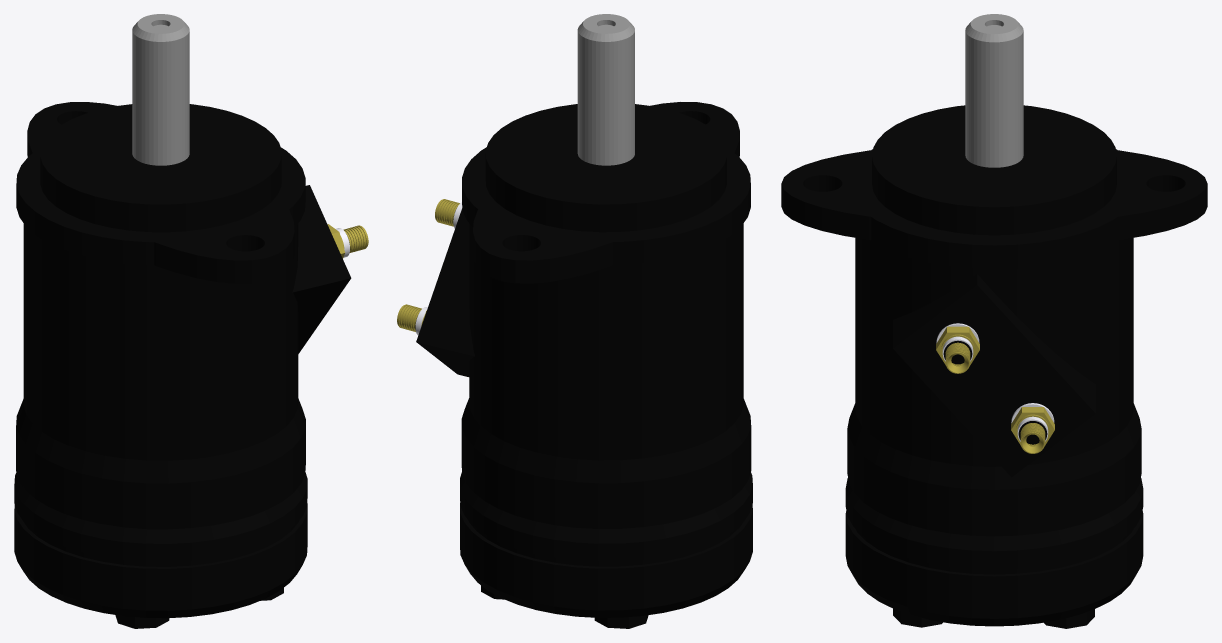
3 renders of one model, left to right at view 1: azimuth 30°, elevation 25°; view 2: azimuth 150°, elevation 25°; view 3: azimuth 270°, elevation 25°, orthographic.
Parts seen in each view (by area): view 1: Body Moter, Grip, rode, Hendal, board, Nut Up, Bolt.003; view 2: Body Moter, Grip, rode, Hendal, board, Nut Down, Nut Up, Bolt.002; view 3: Body Moter, board, Grip, Hendal, rode, Nut Down, Nut Up.
Boxes of the visible parts, bbox=[...] form: Body Moter: bbox=[14, 104, 307, 618]; Grip: bbox=[16, 147, 305, 265]; rode: bbox=[132, 14, 189, 165]; Hendal: bbox=[27, 102, 294, 283]; board: bbox=[292, 185, 351, 353]; Nut Up: bbox=[327, 224, 368, 258]; Bolt.003: bbox=[115, 615, 169, 628]; Body Moter: bbox=[460, 104, 752, 617]; Grip: bbox=[462, 147, 750, 265]; rode: bbox=[577, 14, 634, 165]; Hendal: bbox=[472, 102, 739, 283]; board: bbox=[416, 208, 474, 376]; Nut Down: bbox=[397, 304, 427, 335]; Nut Up: bbox=[435, 199, 462, 228]; Bolt.002: bbox=[594, 615, 648, 628]; Body Moter: bbox=[845, 105, 1143, 626]; board: bbox=[893, 274, 1095, 477]; Grip: bbox=[847, 149, 1141, 268]; Hendal: bbox=[781, 150, 1207, 240]; rode: bbox=[965, 14, 1023, 167]; Nut Down: bbox=[1011, 403, 1054, 453]; Nut Up: bbox=[936, 323, 979, 373].
Size of the model in its own units: 2.46 by 4.17 by 2.86.
16 materials, 3 textured.
